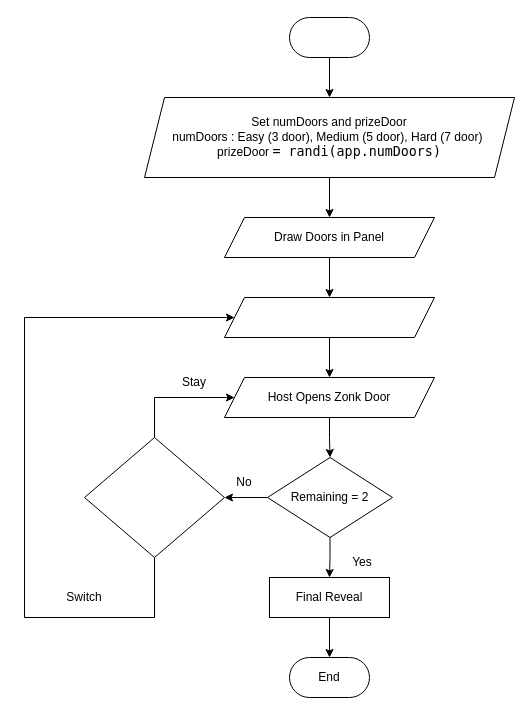
Some shapes in this 532 by 715 pixel diagram are drawn without their labels. Each missing label, with the box of its shape:
Participant decide switch or stay: (84, 436, 224, 558)
Player Chooses One Door: (224, 296, 434, 338)
Start: (288, 16, 370, 58)
